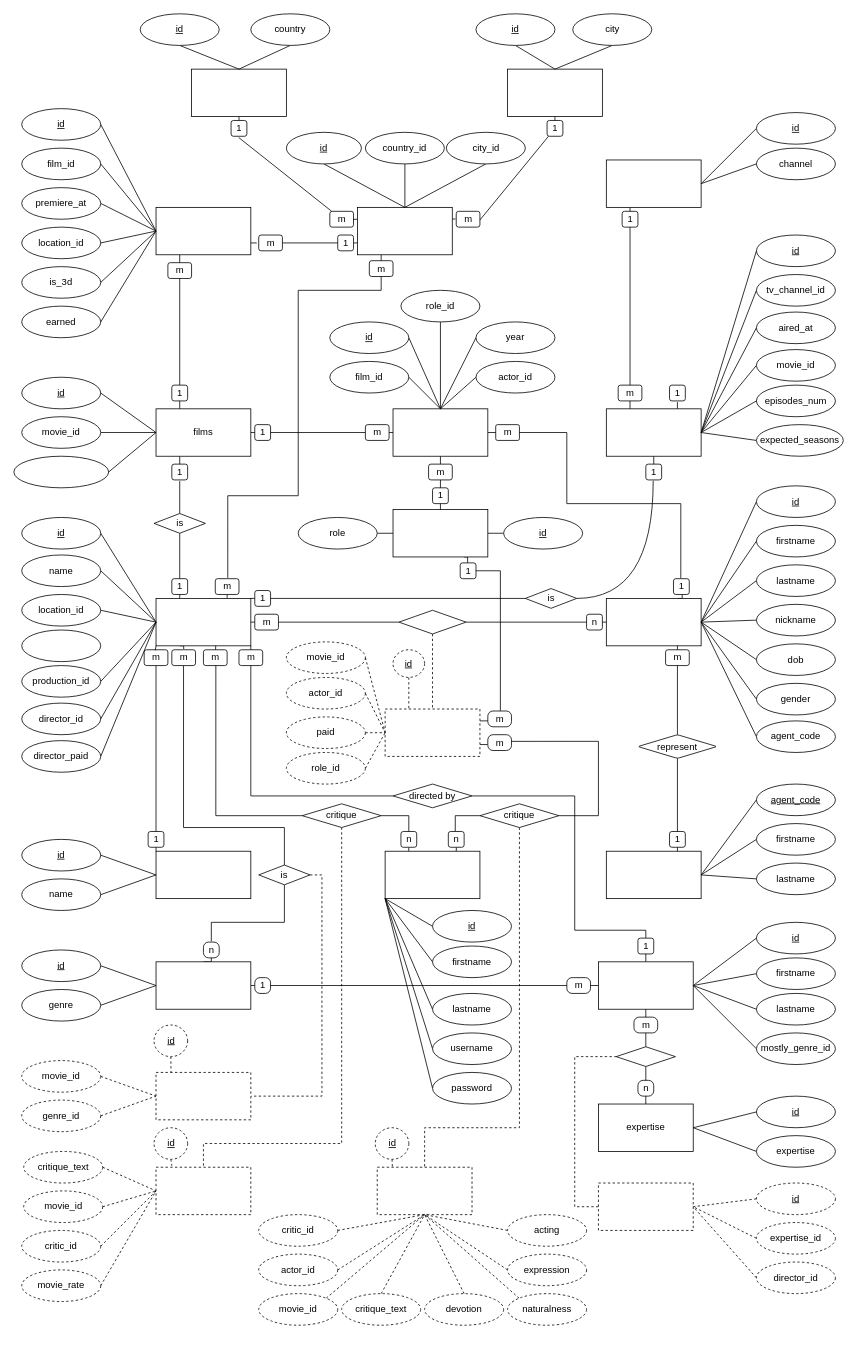
The diagram is 857 pixels wide and 1352 high, and some of its shapes have lost their labels. The shapes that lost their labels are listed below. From the top down, each one's centre as x and y in pixels, then its label:
the point at 238,92: countries
the point at 554,92: cities
the point at 653,183: tv_channels
the point at 203,231: premieres
the point at 404,231: locations
the point at 440,432: oscars
the point at 653,432: tv_series
the point at 61,471: sequel_to_movie_id
the point at 440,533: roles
the point at 203,622: movies
the point at 432,621: act by
the point at 653,622: actors
the point at 61,645: premiere_date
the point at 432,732: actor_movie
the point at 203,874: productions
the point at 432,874: critics
the point at 653,874: agents
the point at 203,985: genres
the point at 645,985: directors
the point at 645,1056: has
the point at 203,1096: genre_movie
the point at 203,1190: critic_movie
the point at 424,1190: critic_actor_movie
the point at 645,1206: expertise_director
